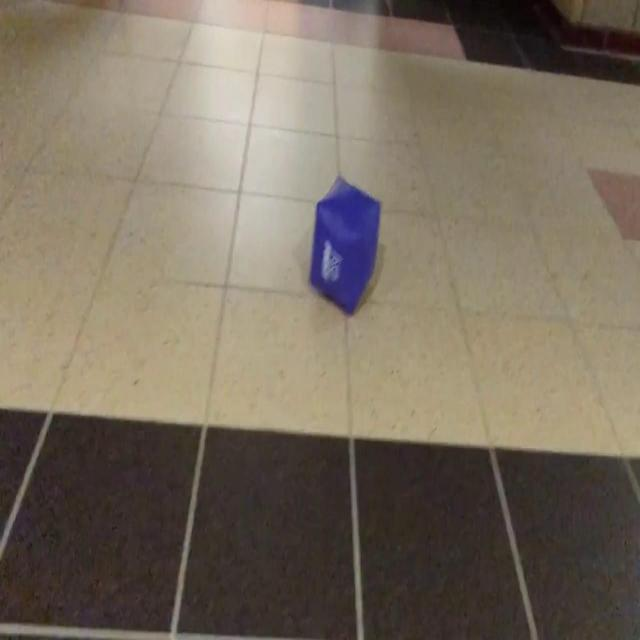frc_cube: (307, 175, 381, 316)
